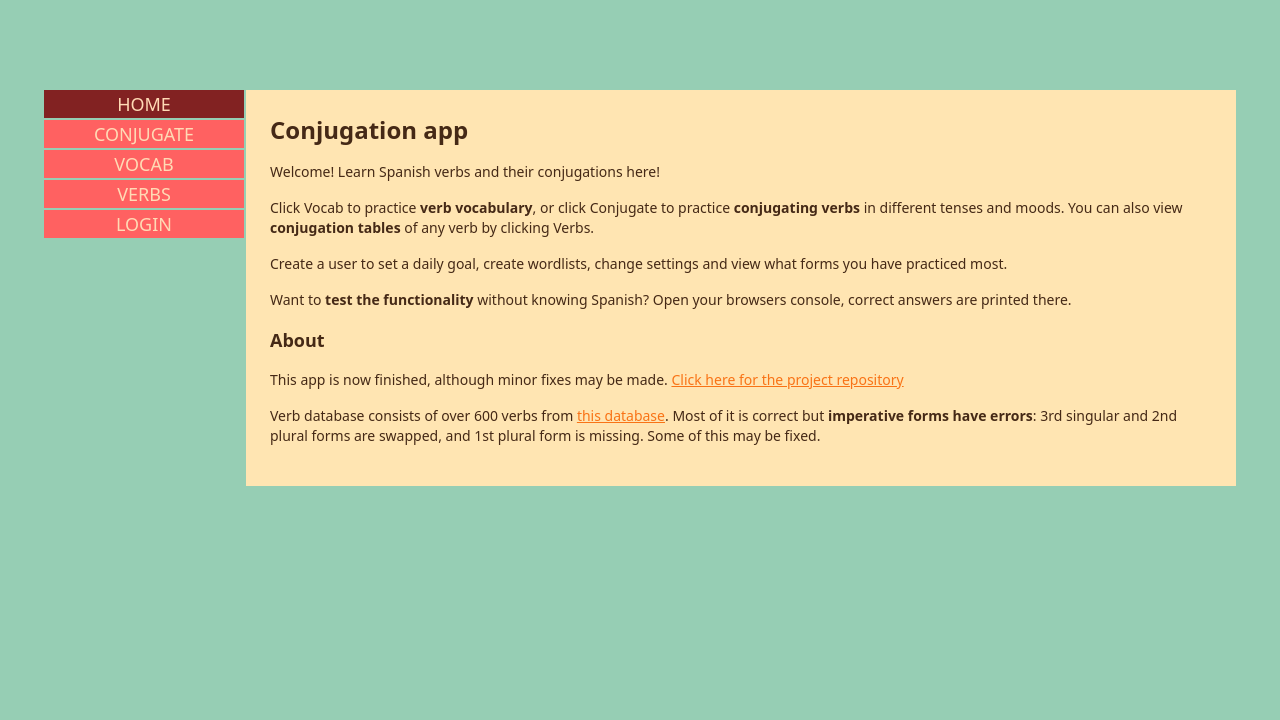
Scenario: taivuttaja-app › when unlogged › Conjugate-page opens and does not have wordlist form
Click the link "CONJUGATE": (144, 134) [44,120,244,148]
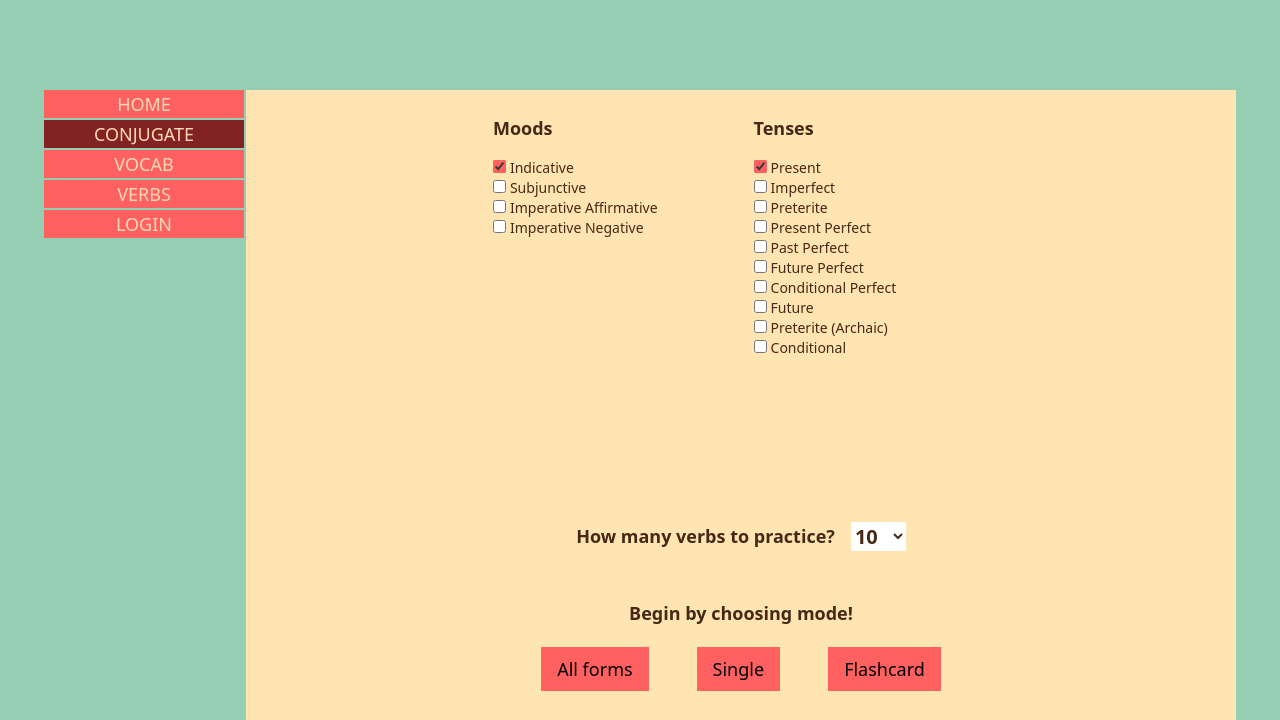
Check: the heading "Begin by choosing mode!" is shown, box [629,601,853,625]
